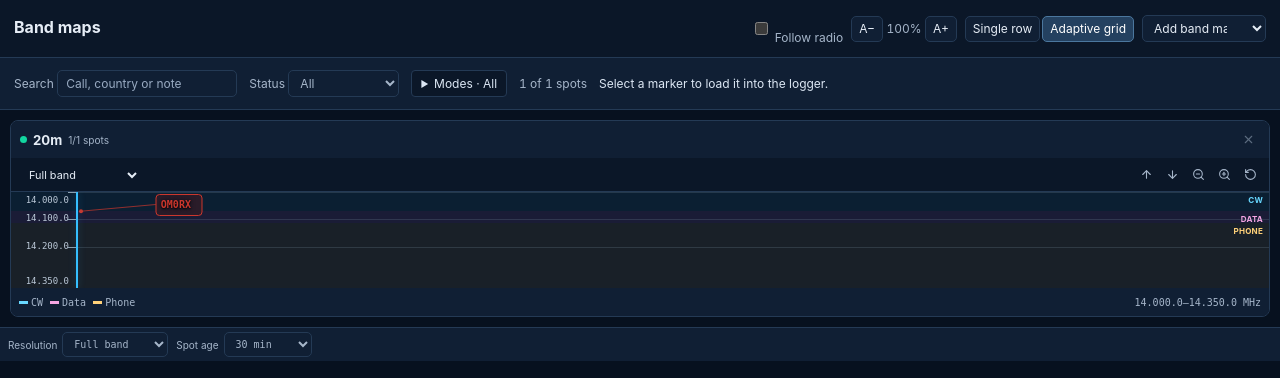
it: native band-map parity › zooms, pans and restores allocation views without losing spots
Select "CW portion" in the dropdown named "20m allocation" at (79, 174), box x1=17 y1=162 x2=141 y2=188
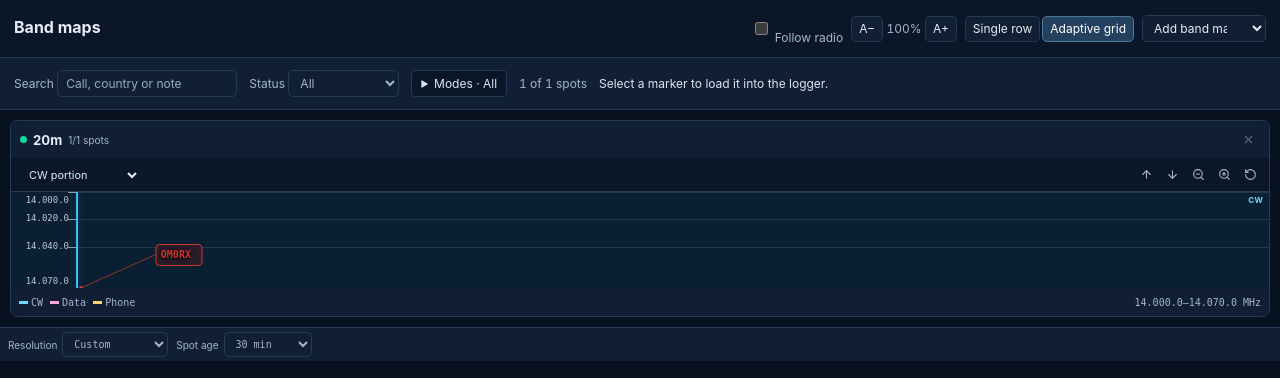
Expected: the text "14.000.0–14.070.0 MHz" is shown, x1=1135 y1=296 x2=1261 y2=308
Click the button named "Zoom 20m in" at (1224, 174), box x1=1212 y1=162 x2=1237 y2=187
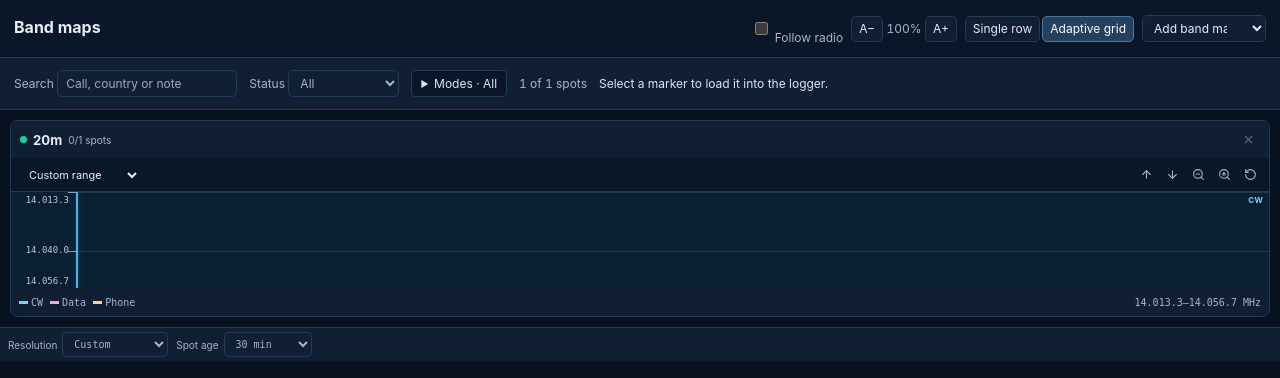
Expected: the text "14.000.0–14.070.0 MHz" is gone
Click the button named "Pan 20m higher" at (1172, 174), box x1=1160 y1=162 x2=1185 y2=187
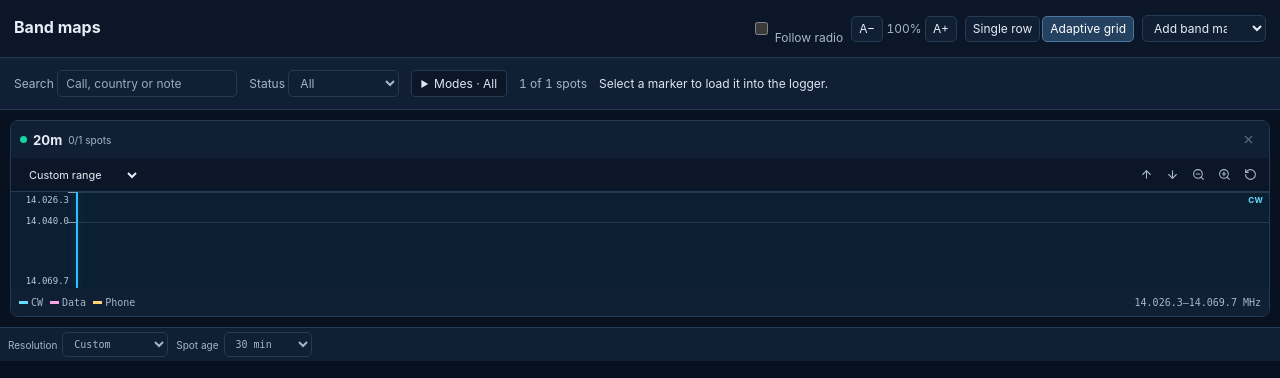
Click the button named "Reset 20m range" at (1250, 174), box x1=1238 y1=162 x2=1263 y2=187
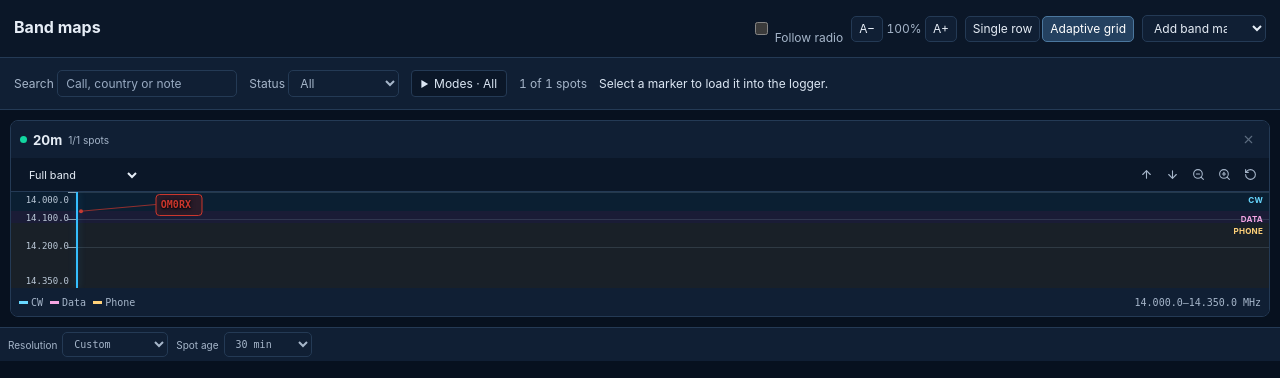
Expected: the text "14.000.0–14.350.0 MHz" is shown, x1=1135 y1=296 x2=1261 y2=308
